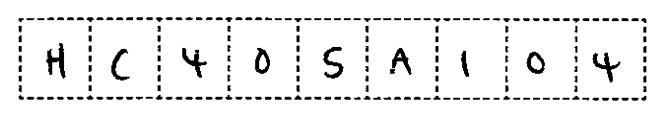0: (247, 39, 278, 78), (519, 47, 552, 81)
1: (452, 44, 479, 81)
4: (585, 45, 626, 87), (174, 43, 212, 86)
5: (313, 42, 350, 86)
A: (384, 43, 417, 81)
C: (105, 44, 136, 83)
H: (37, 38, 74, 82)
